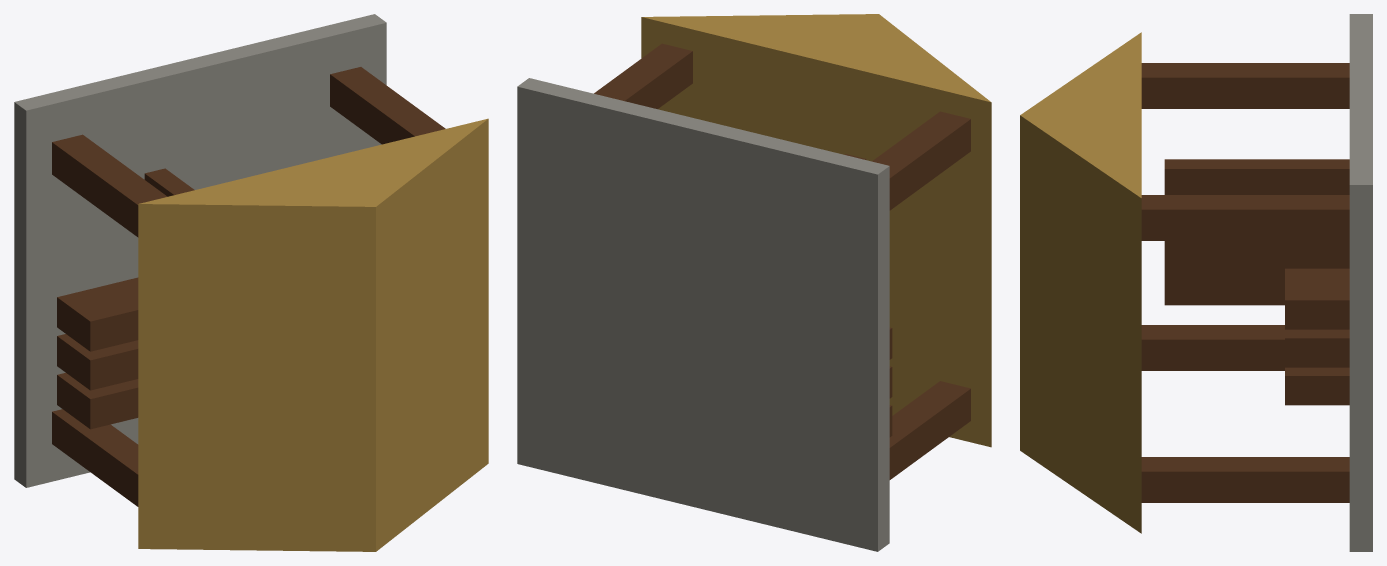
The model's file is SM_Sawyer.obj.
3 renders of one model, left to right at view 1: azimuth 30°, elevation 25°; view 2: azimuth 150°, elevation 25°; view 3: azimuth 270°, elevation 25°, orthographic. The views are drawn at different scales.
Parts seen in each view (by area): view 1: SM_Sawyer_thatch, SM_Sawyer_stone, SM_Sawyer_timber; view 2: SM_Sawyer_stone, SM_Sawyer_thatch, SM_Sawyer_timber; view 3: SM_Sawyer_timber, SM_Sawyer_thatch, SM_Sawyer_stone.
Boxes of the visible parts, x1,y1,x2,y2 form: SM_Sawyer_thatch: (138, 118, 488, 551); SM_Sawyer_stone: (14, 14, 386, 487); SM_Sawyer_timber: (52, 67, 445, 506); SM_Sawyer_stone: (517, 78, 889, 551); SM_Sawyer_thatch: (641, 14, 991, 447); SM_Sawyer_timber: (594, 43, 970, 479); SM_Sawyer_timber: (1141, 63, 1349, 502); SM_Sawyer_thatch: (1020, 32, 1141, 533); SM_Sawyer_stone: (1349, 14, 1372, 551).
Bounding box in the file's own units: 350 × 350 × 305.
